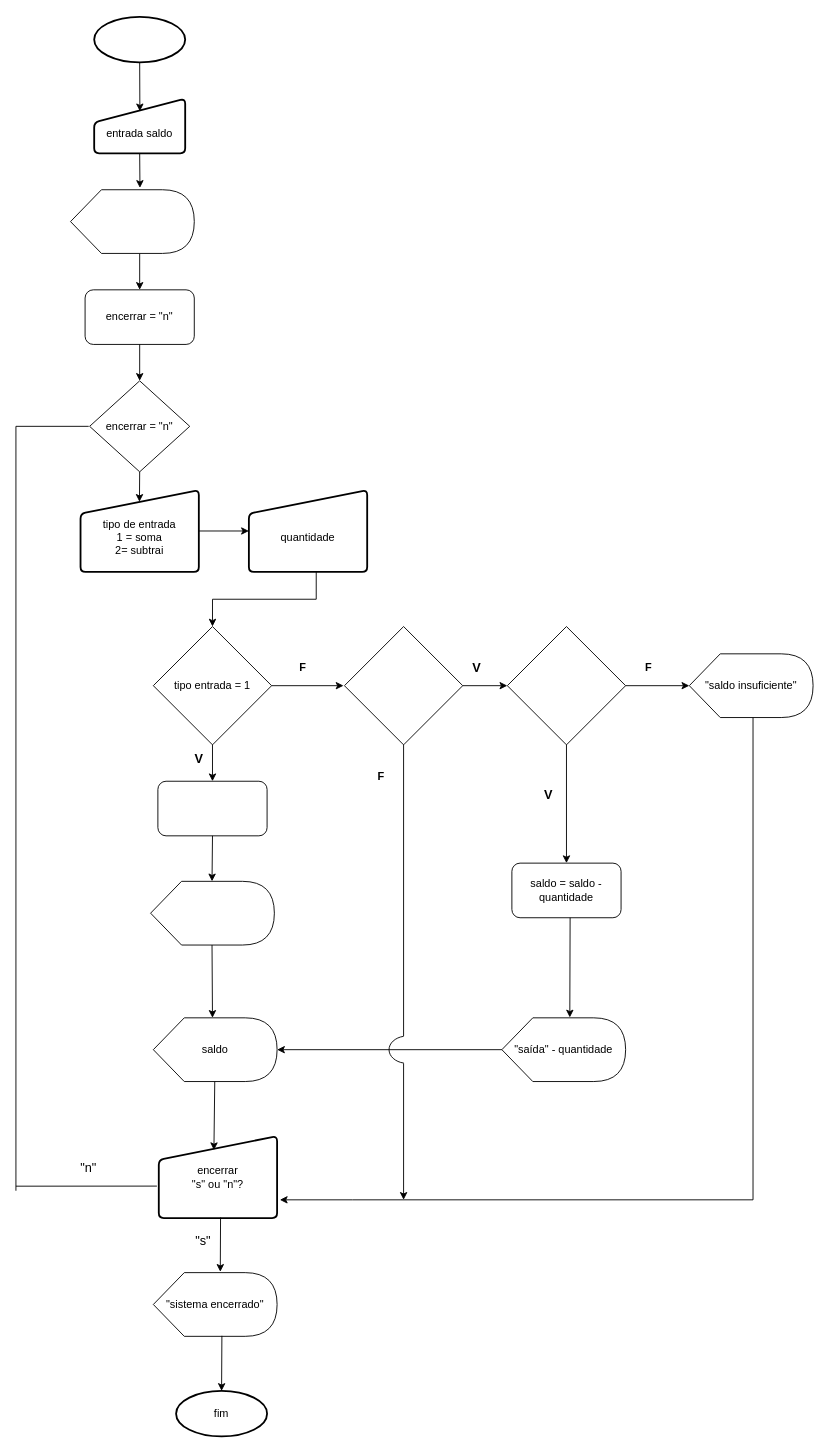
The diagram is 829 pixels wide and 1452 high, and some of its shapes have lost their labels. Here are the shapes that lost their labels. From the top down, the box of each, then its label:
(93, 15, 186, 63): início
(70, 189, 194, 253): "mostrar saldo inicial " + saldo
(344, 626, 463, 745): tipo entrada = 2
(506, 626, 626, 745): saldo >= quantidade
(157, 780, 267, 836): saldo = saldo + quantidade
(150, 880, 274, 945): "Entrada" + quantidade
